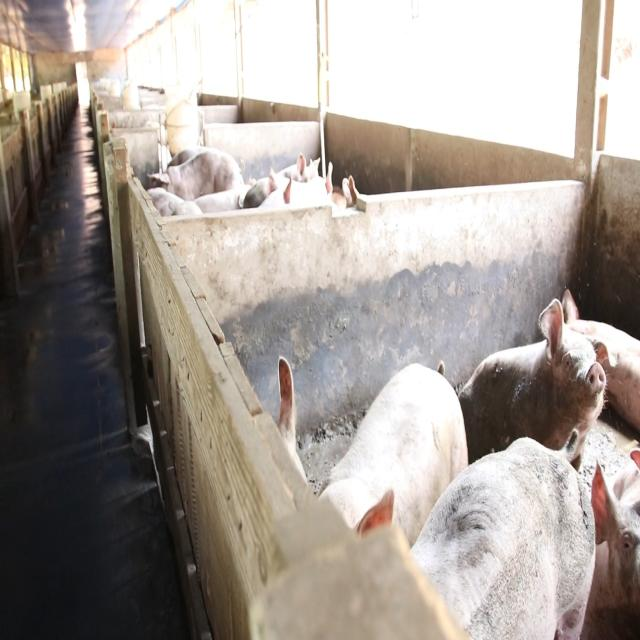pig: (448, 329, 616, 449)
